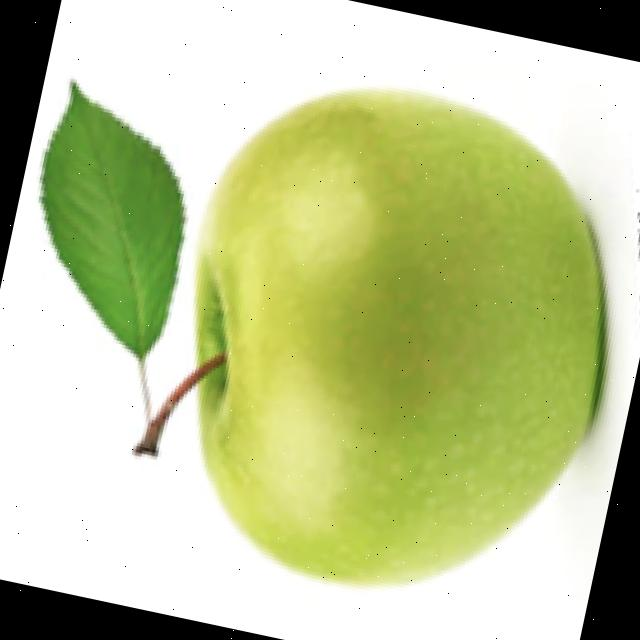apple: (31, 73, 629, 593)
